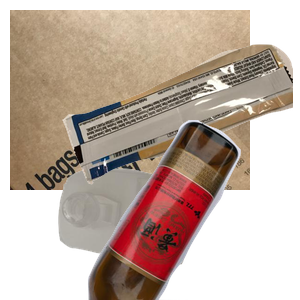cardboard: (10, 10, 250, 190)
glass: (85, 120, 300, 300)
plastic: (56, 166, 241, 300)
trash: (60, 42, 300, 219)
